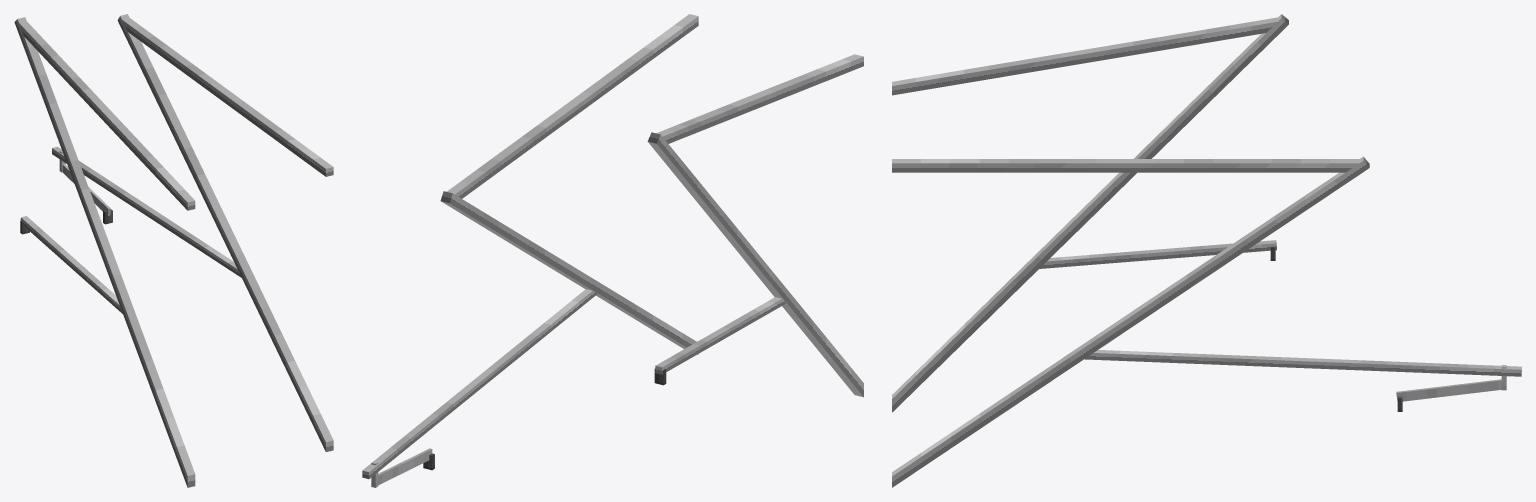
File: cantilever_outer_4px.obj
The picture shows the model from 3 angles, left to right: view 1: azimuth 30°, elevation 25°; view 2: azimuth 150°, elevation 25°; view 3: azimuth 270°, elevation 25°; orthographic projection. The views are drawn at different scales.
Parts seen in each view (by area): view 1: b9bbe511-a798-4d68-bb0b-150473669370, bae2caf8-1613-48bb-8a9b-87b3c7c1a5a1, 71b2491f-4c3d-4402-be90-8b979da36684, 07ffb292-4510-496e-a22a-f8f0be6b54f1, c4d7f5a6-3f8b-4499-96d4-f19a8dce7a93, 08d01aba-bf18-421c-a0d7-830976071810; view 2: b9bbe511-a798-4d68-bb0b-150473669370, 71b2491f-4c3d-4402-be90-8b979da36684, bae2caf8-1613-48bb-8a9b-87b3c7c1a5a1, c4d7f5a6-3f8b-4499-96d4-f19a8dce7a93, 07ffb292-4510-496e-a22a-f8f0be6b54f1, 08d01aba-bf18-421c-a0d7-830976071810, b7fe37ae-9427-4bcd-8ee5-965bd9d876fa; view 3: bae2caf8-1613-48bb-8a9b-87b3c7c1a5a1, b9bbe511-a798-4d68-bb0b-150473669370, 71b2491f-4c3d-4402-be90-8b979da36684, 07ffb292-4510-496e-a22a-f8f0be6b54f1, c4d7f5a6-3f8b-4499-96d4-f19a8dce7a93, 08d01aba-bf18-421c-a0d7-830976071810, b7fe37ae-9427-4bcd-8ee5-965bd9d876fa.
Part boxes in pixels (left/top/right/bottom): b9bbe511-a798-4d68-bb0b-150473669370: left=14, top=17, right=195, bottom=487; bae2caf8-1613-48bb-8a9b-87b3c7c1a5a1: left=117, top=14, right=333, bottom=451; 71b2491f-4c3d-4402-be90-8b979da36684: left=122, top=17, right=333, bottom=176; 07ffb292-4510-496e-a22a-f8f0be6b54f1: left=19, top=21, right=195, bottom=210; c4d7f5a6-3f8b-4499-96d4-f19a8dce7a93: left=52, top=146, right=241, bottom=277; 08d01aba-bf18-421c-a0d7-830976071810: left=20, top=216, right=122, bottom=313; b9bbe511-a798-4d68-bb0b-150473669370: left=647, top=132, right=863, bottom=397; 71b2491f-4c3d-4402-be90-8b979da36684: left=447, top=14, right=698, bottom=198; bae2caf8-1613-48bb-8a9b-87b3c7c1a5a1: left=440, top=191, right=698, bottom=354; c4d7f5a6-3f8b-4499-96d4-f19a8dce7a93: left=362, top=289, right=597, bottom=478; 07ffb292-4510-496e-a22a-f8f0be6b54f1: left=656, top=54, right=863, bottom=143; 08d01aba-bf18-421c-a0d7-830976071810: left=655, top=297, right=785, bottom=374; b7fe37ae-9427-4bcd-8ee5-965bd9d876fa: left=378, top=448, right=432, bottom=485; bae2caf8-1613-48bb-8a9b-87b3c7c1a5a1: left=892, top=156, right=1369, bottom=487; b9bbe511-a798-4d68-bb0b-150473669370: left=892, top=14, right=1288, bottom=412; 71b2491f-4c3d-4402-be90-8b979da36684: left=892, top=159, right=1359, bottom=172; 07ffb292-4510-496e-a22a-f8f0be6b54f1: left=892, top=17, right=1277, bottom=95; c4d7f5a6-3f8b-4499-96d4-f19a8dce7a93: left=1084, top=350, right=1521, bottom=376; 08d01aba-bf18-421c-a0d7-830976071810: left=1039, top=240, right=1276, bottom=268; b7fe37ae-9427-4bcd-8ee5-965bd9d876fa: left=1396, top=379, right=1501, bottom=401.
Bounding box in the file's own units: 1.19 × 2.68 × 3.87.
